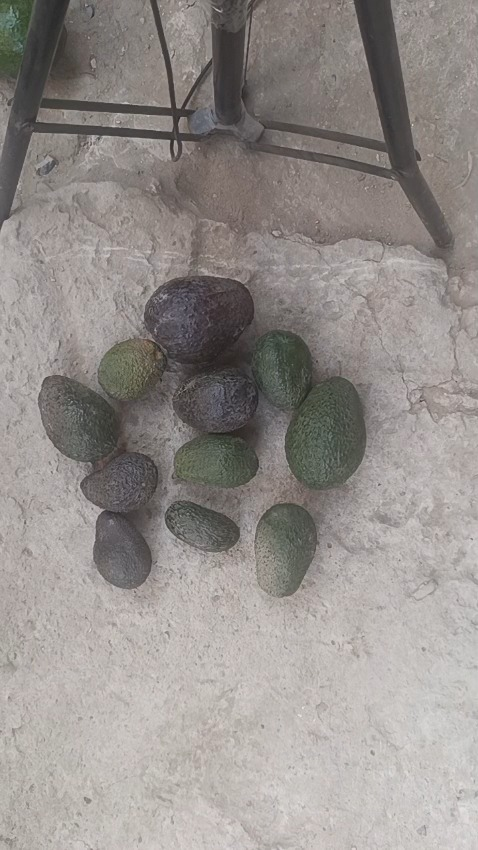Primera: (143, 275, 255, 365), (286, 378, 366, 491), (0, 1, 36, 85)
Segunda: (37, 377, 120, 466), (255, 503, 318, 599), (173, 373, 260, 433)
Tercera: (253, 333, 314, 414), (173, 436, 259, 490), (94, 512, 154, 589), (82, 454, 160, 513), (98, 337, 168, 402), (164, 502, 240, 554)
